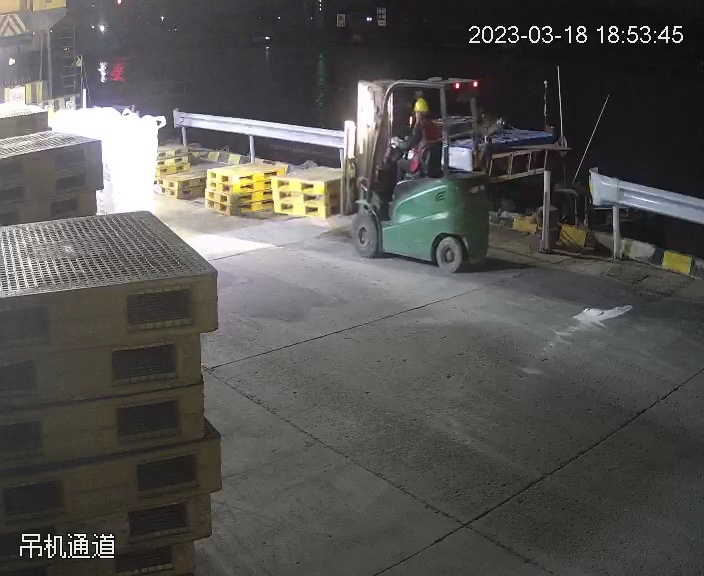head: (405, 95, 439, 140)
helmet: (411, 96, 432, 112)
people: (374, 94, 442, 203)
